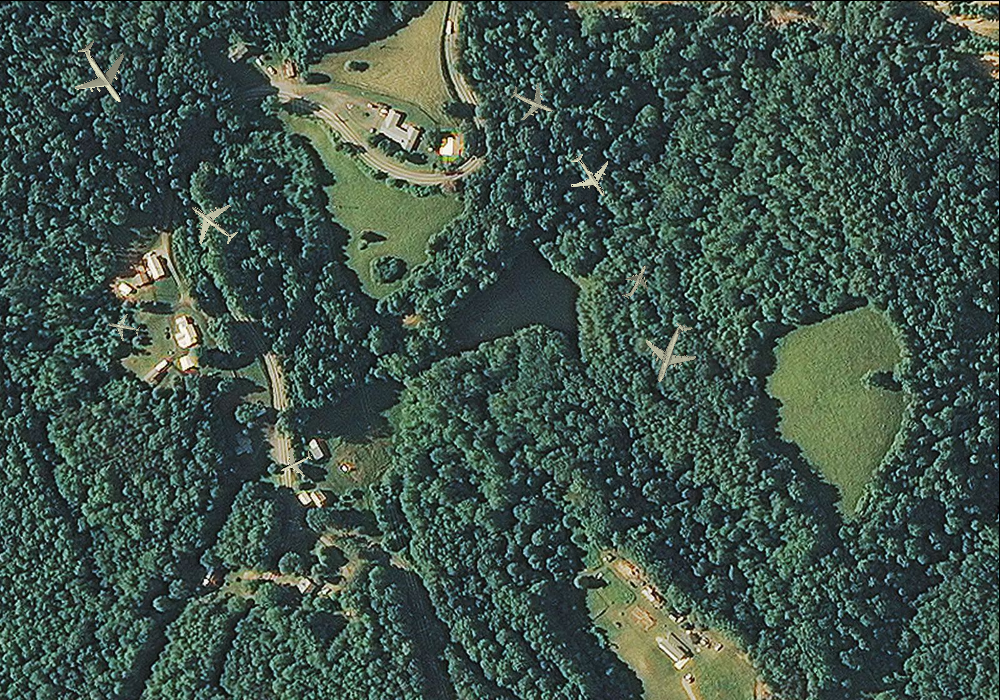plane: (55, 26, 147, 119), (633, 312, 710, 392), (176, 187, 248, 258), (557, 142, 623, 209), (503, 72, 561, 129), (613, 257, 658, 305), (274, 441, 318, 484), (104, 309, 141, 345)
